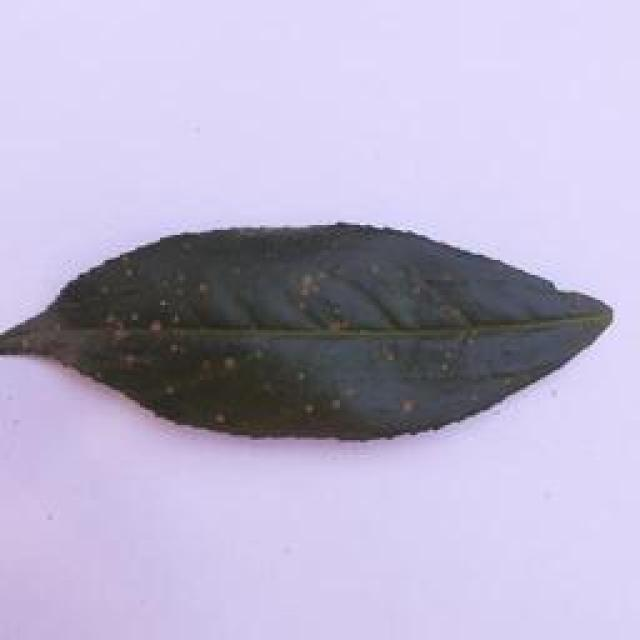Algal Leaf Spot: (0, 202, 613, 442)
